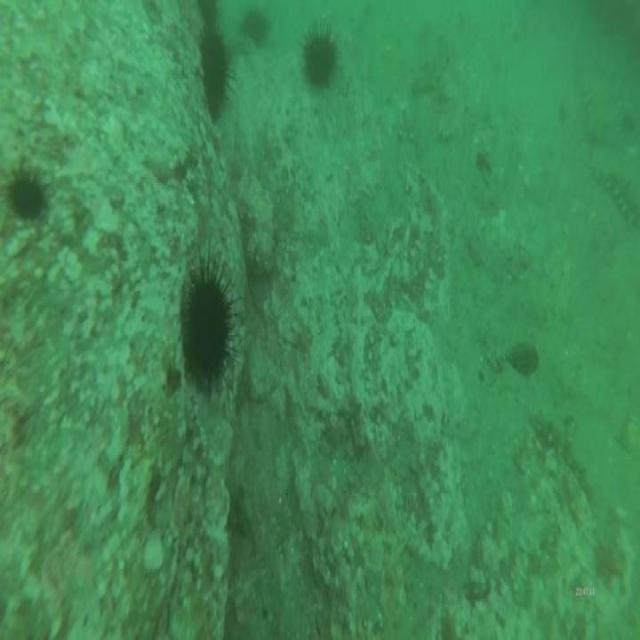echinus: (178, 245, 235, 401), (200, 25, 236, 120), (298, 22, 341, 95), (2, 162, 48, 224), (238, 6, 270, 51), (195, 0, 221, 28)
holothurian: (530, 410, 596, 508), (603, 167, 640, 240)
